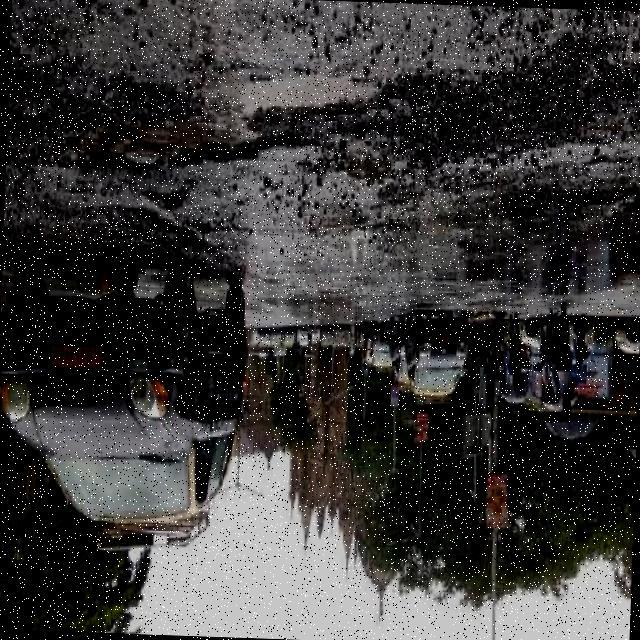Pothole: (66, 115, 259, 167), (239, 74, 380, 114)
